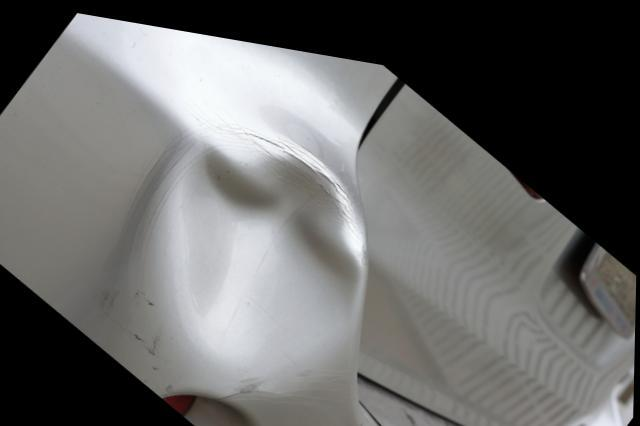dent: (174, 130, 365, 371)
